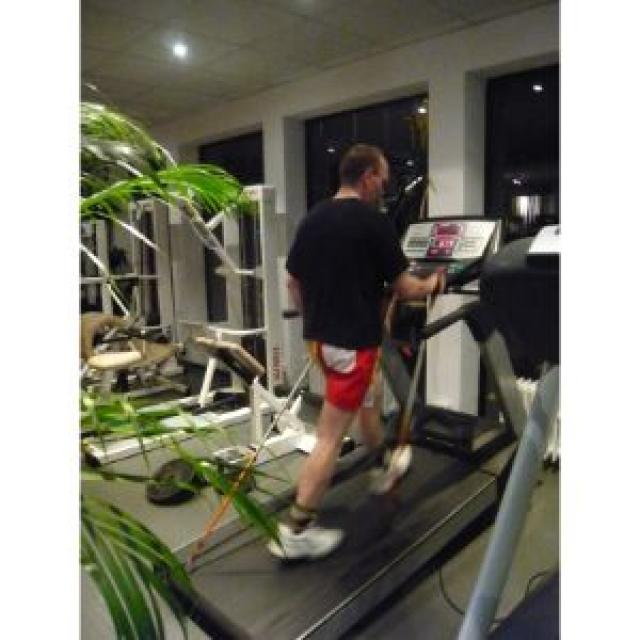nonfall: (281, 130, 406, 573)
